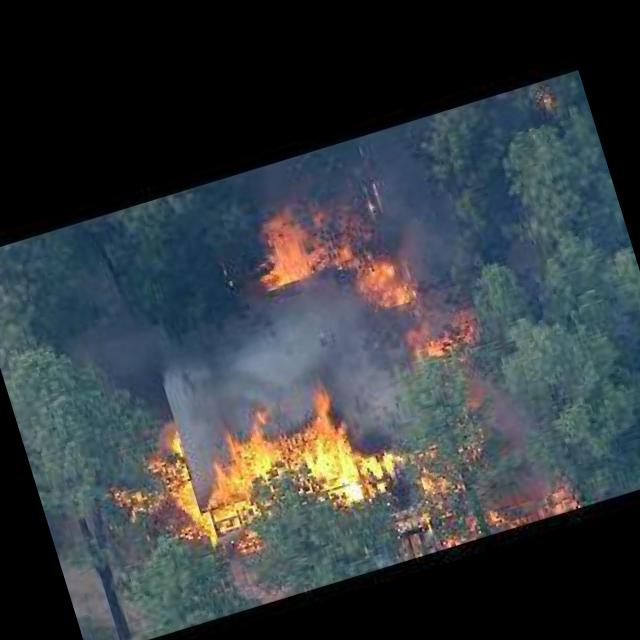fire: (160, 382, 408, 550), (245, 180, 418, 336), (432, 465, 578, 546), (392, 303, 481, 371)
smoke: (163, 300, 407, 451), (453, 355, 550, 469), (342, 383, 437, 458)
